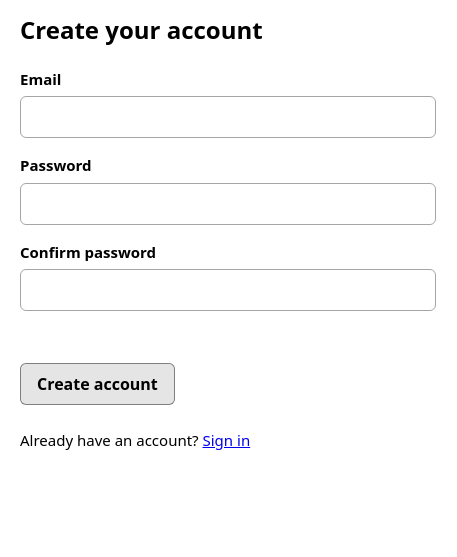
Scenario: RegisterPage › shows a generic throttling message on 429
In the field labelled "Email": (228,117) [20,96,436,138], type "new@example.com"
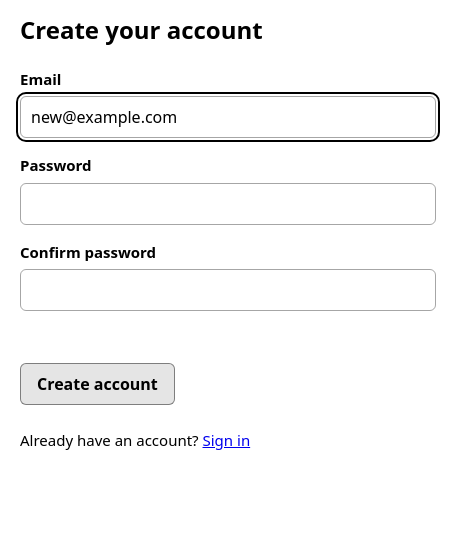
In the password field labelled "Password": (228,204) [20,183,436,225], type "a-good-password"
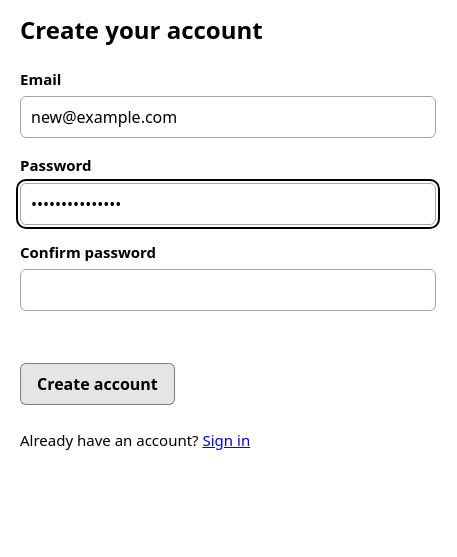
In the password field labelled "Confirm password": (228,290) [20,269,436,311], type "a-good-password"
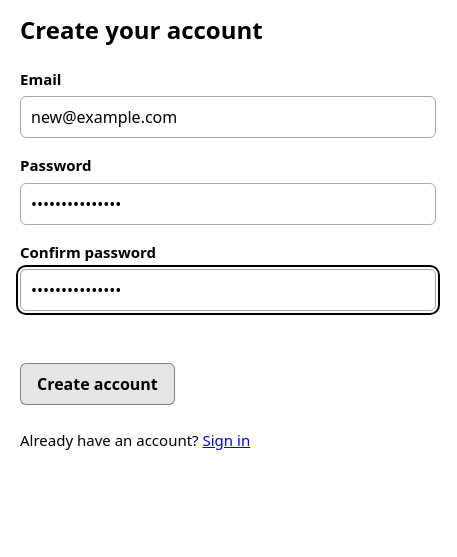
Click the button "Create account": (97,384) [20,363,175,405]
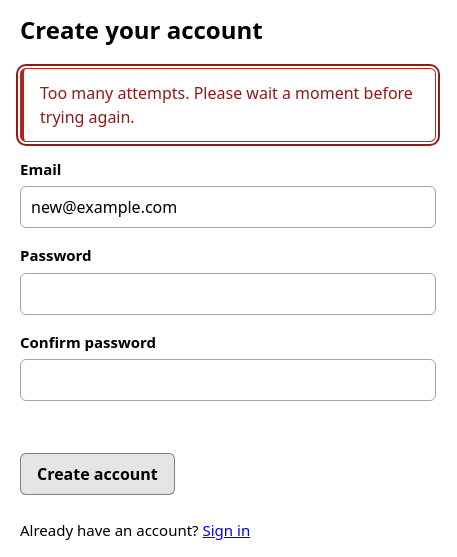
Expected: the message "Too many attempts. Please wait a moment before trying again." is shown, [20,68,436,142]
